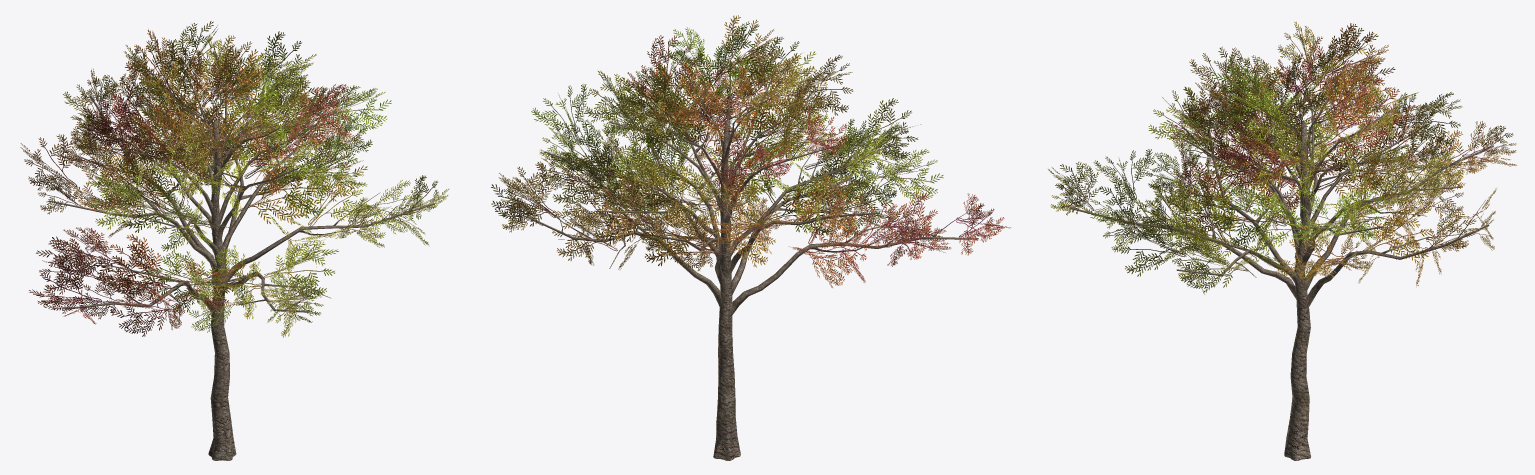
The model's file is acacia__from_tree_it.glb.
3 views of the same model, side by side, from view 1: azimuth 30°, elevation 25°; view 2: azimuth 150°, elevation 25°; view 3: azimuth 270°, elevation 25° (orthographic). The views are drawn at different scales.
Visible parts, largest first — view 1: Object_2, Object_3; view 2: Object_2, Object_3; view 3: Object_2, Object_3.
Part boxes in pixels (bbox=[...]): Object_2: bbox=[20, 21, 449, 337]; Object_3: bbox=[49, 65, 434, 460]; Object_2: bbox=[491, 15, 1010, 287]; Object_3: bbox=[527, 61, 978, 460]; Object_2: bbox=[1048, 21, 1516, 294]; Object_3: bbox=[1070, 61, 1493, 460].
Bounding box in the file's own units: 13.5 × 12.8 × 13.28.
Materials: 2 (2 with a texture image).
